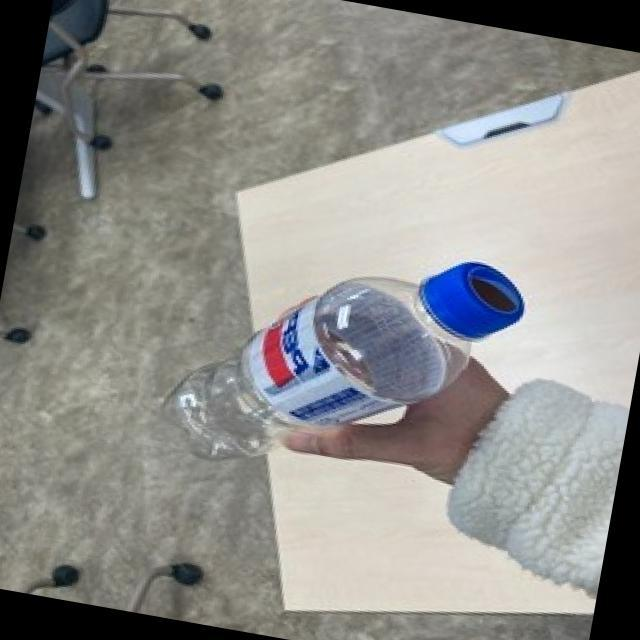good: (147, 198, 538, 521)
